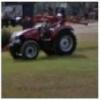tractors: (7, 10, 78, 60)
